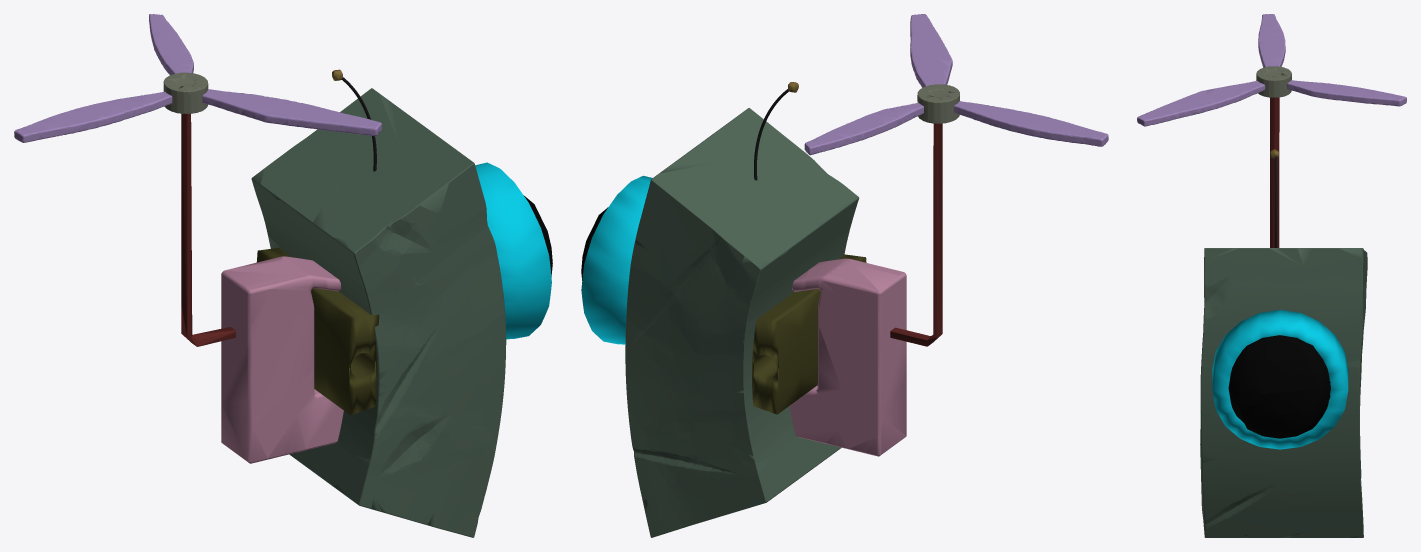
File: dronewithanimation1.fbx
3 views of the same model, side by side, from view 1: azimuth 30°, elevation 25°; view 2: azimuth 150°, elevation 25°; view 3: azimuth 270°, elevation 25° (orthographic). The views are drawn at different scales.
Visible parts, largest first — view 1: dronebody_high, back1_high, propeller, eye_high, back2_high, propholder_high, prophead_high; view 2: dronebody_high, back1_high, propeller, back2_high, eye_high, propholder_high, prophead_high; view 3: dronebody_high, lens_high, eye_high, propeller, propholder_high, prophead_high, antholder_high.
Part boxes in pixels (<box>): dronebody_high: <box>251,88,506,537</box>; back1_high: <box>221,256,343,463</box>; propeller: <box>14,14,381,142</box>; eye_high: <box>475,162,551,339</box>; back2_high: <box>256,248,379,415</box>; propholder_high: <box>181,113,235,346</box>; prophead_high: <box>163,72,208,113</box>; dronebody_high: <box>625,108,859,537</box>; back1_high: <box>789,258,906,456</box>; propeller: <box>804,14,1108,155</box>; back2_high: <box>752,254,866,414</box>; eye_high: <box>581,175,652,344</box>; propholder_high: <box>890,123,942,346</box>; prophead_high: <box>917,84,959,123</box>; dronebody_high: <box>1200,248,1367,537</box>; lens_high: <box>1228,335,1330,438</box>; eye_high: <box>1212,309,1348,449</box>; propeller: <box>1137,14,1406,126</box>; propholder_high: <box>1270,97,1279,247</box>; prophead_high: <box>1256,66,1291,97</box>; antholder_high: <box>1274,156,1277,247</box>.
Size of the model in its own units: 121 by 105 by 69.11.
